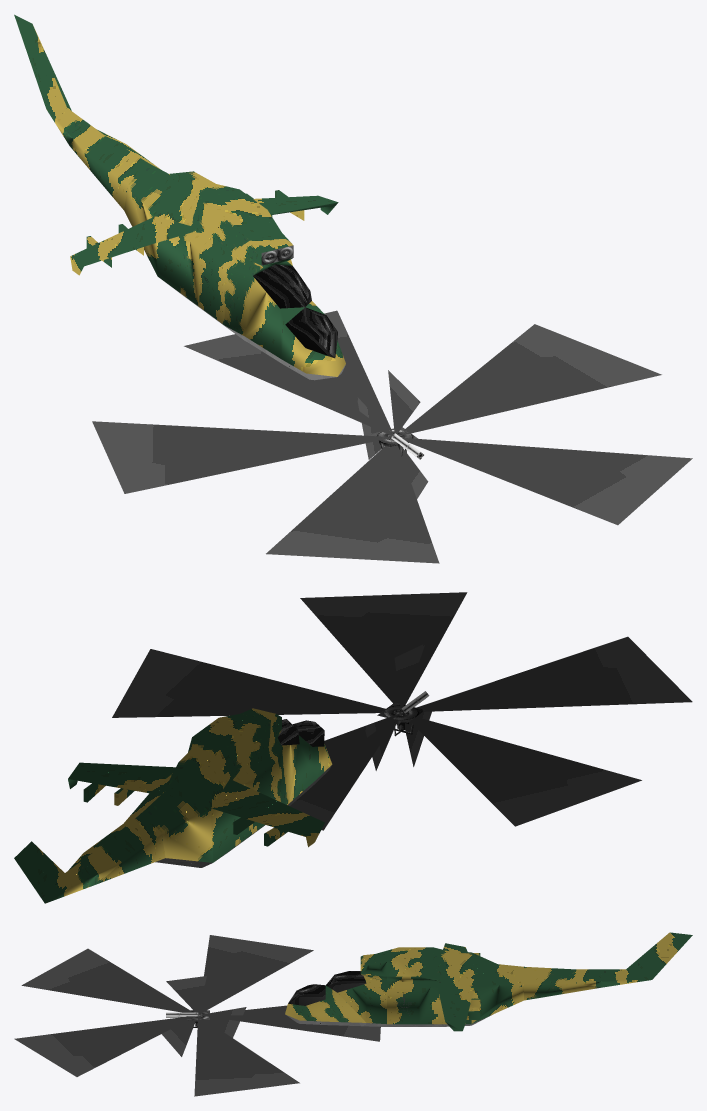
Rendered from PhindZ.obj.
The picture shows the model from 3 angles, top to bottom: view 1: azimuth 30°, elevation 25°; view 2: azimuth 150°, elevation 25°; view 3: azimuth 270°, elevation 25°; orthographic projection. The views are drawn at different scales.
Bounding box in the file's own units: 7006 × 2598 × 12435.
Materials: 13 (13 with a texture image).
